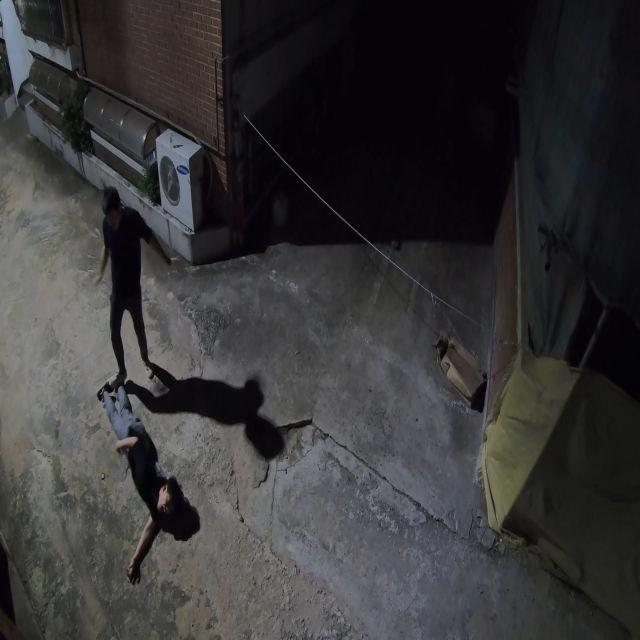fight: (89, 182, 185, 579)
